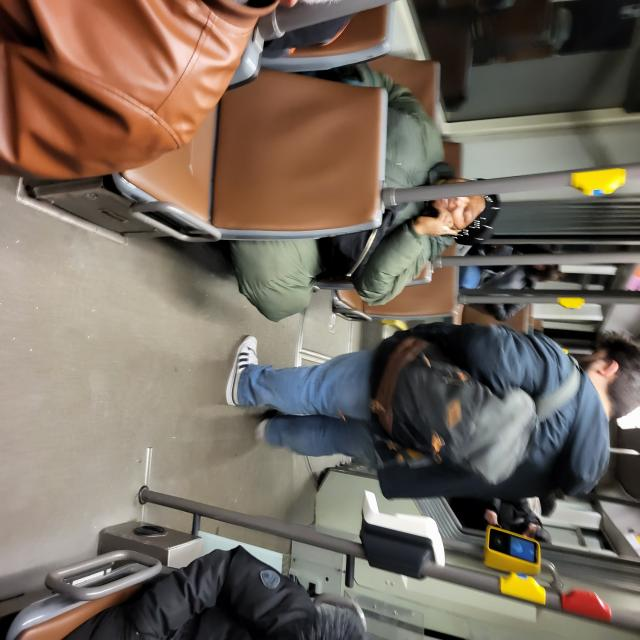asiento-libre: (211, 336, 341, 640), (340, 240, 402, 411)
